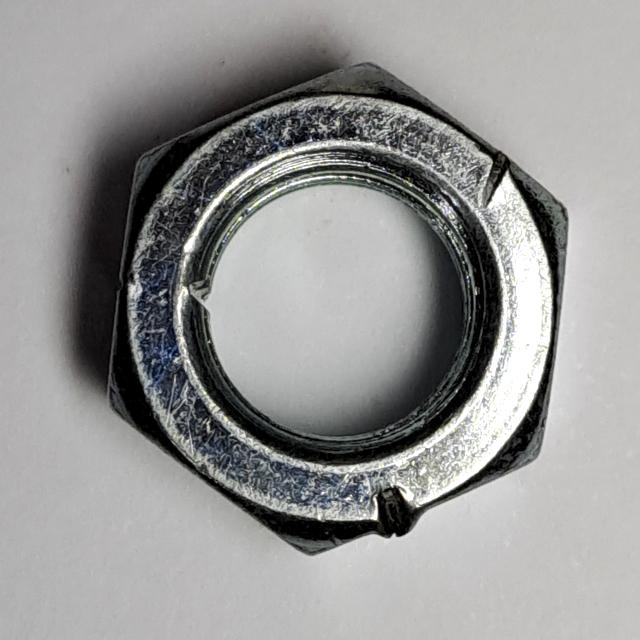Scratches: (96, 51, 586, 570)
